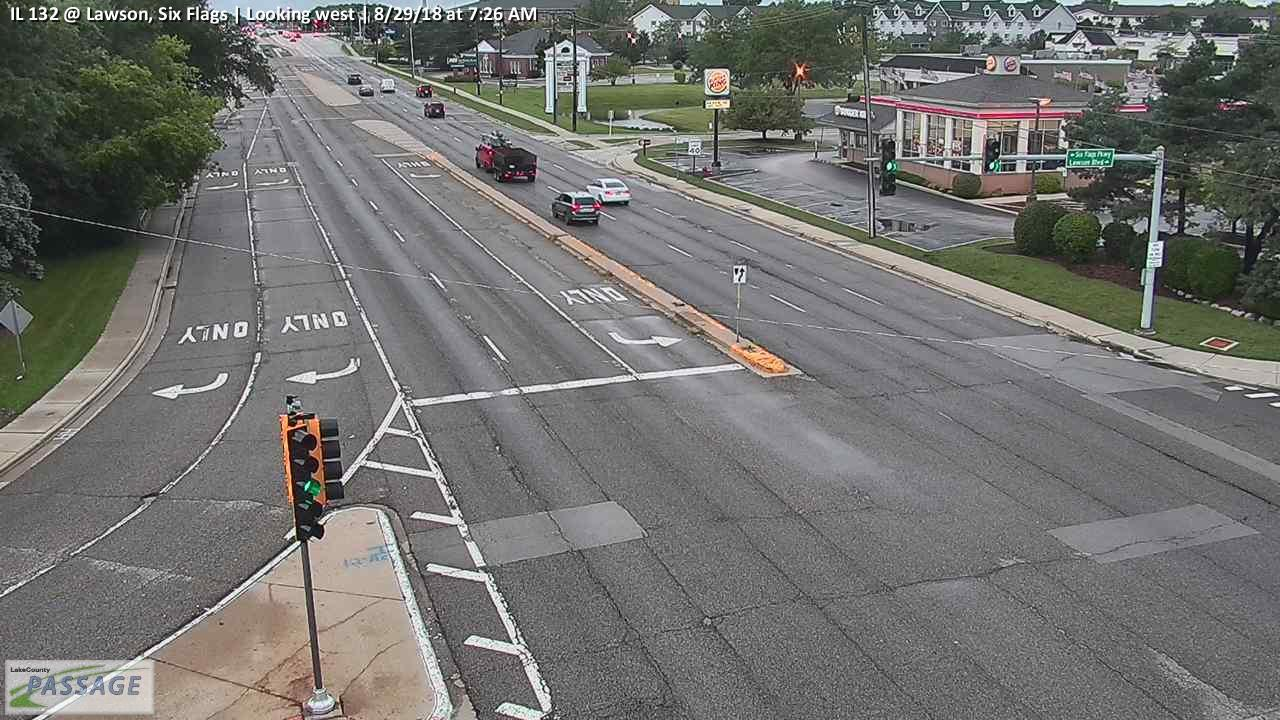SUV: (551, 188, 601, 225), (379, 76, 395, 92)
Sedan: (585, 177, 632, 209), (422, 100, 447, 118), (414, 84, 434, 96), (357, 83, 374, 96), (346, 72, 363, 83)
Truck: (475, 129, 538, 183)
